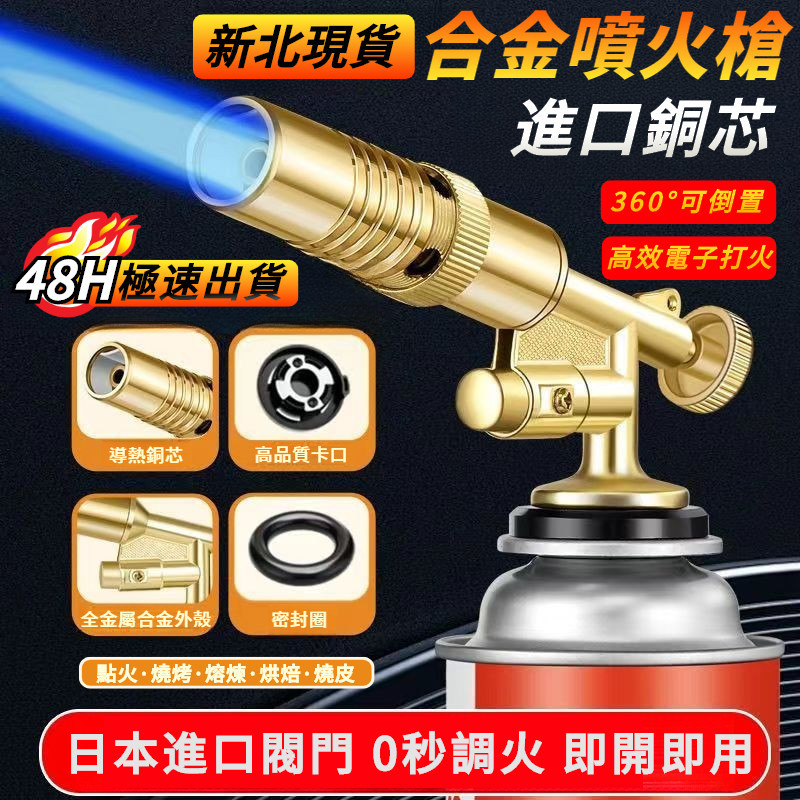gastorch: (174, 97, 791, 799)
